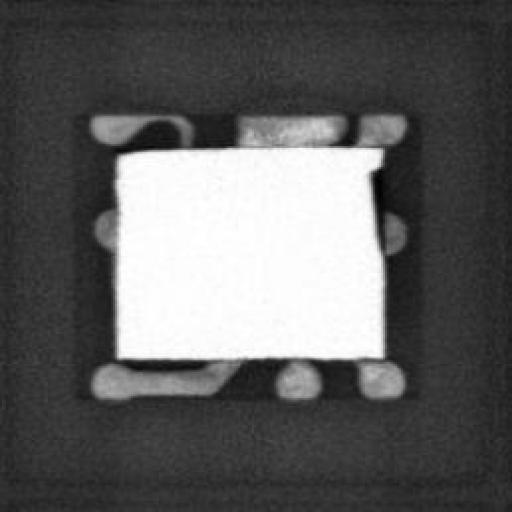DIE_BROKEN: (363, 159, 385, 252)
